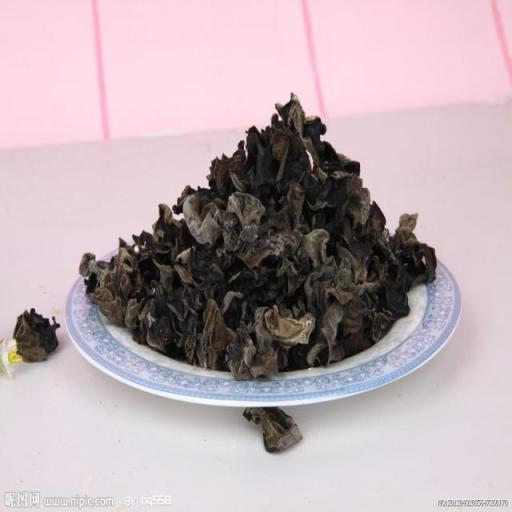Wood Ear Mushroom: (80, 93, 438, 380), (243, 402, 302, 454), (14, 304, 61, 361)
